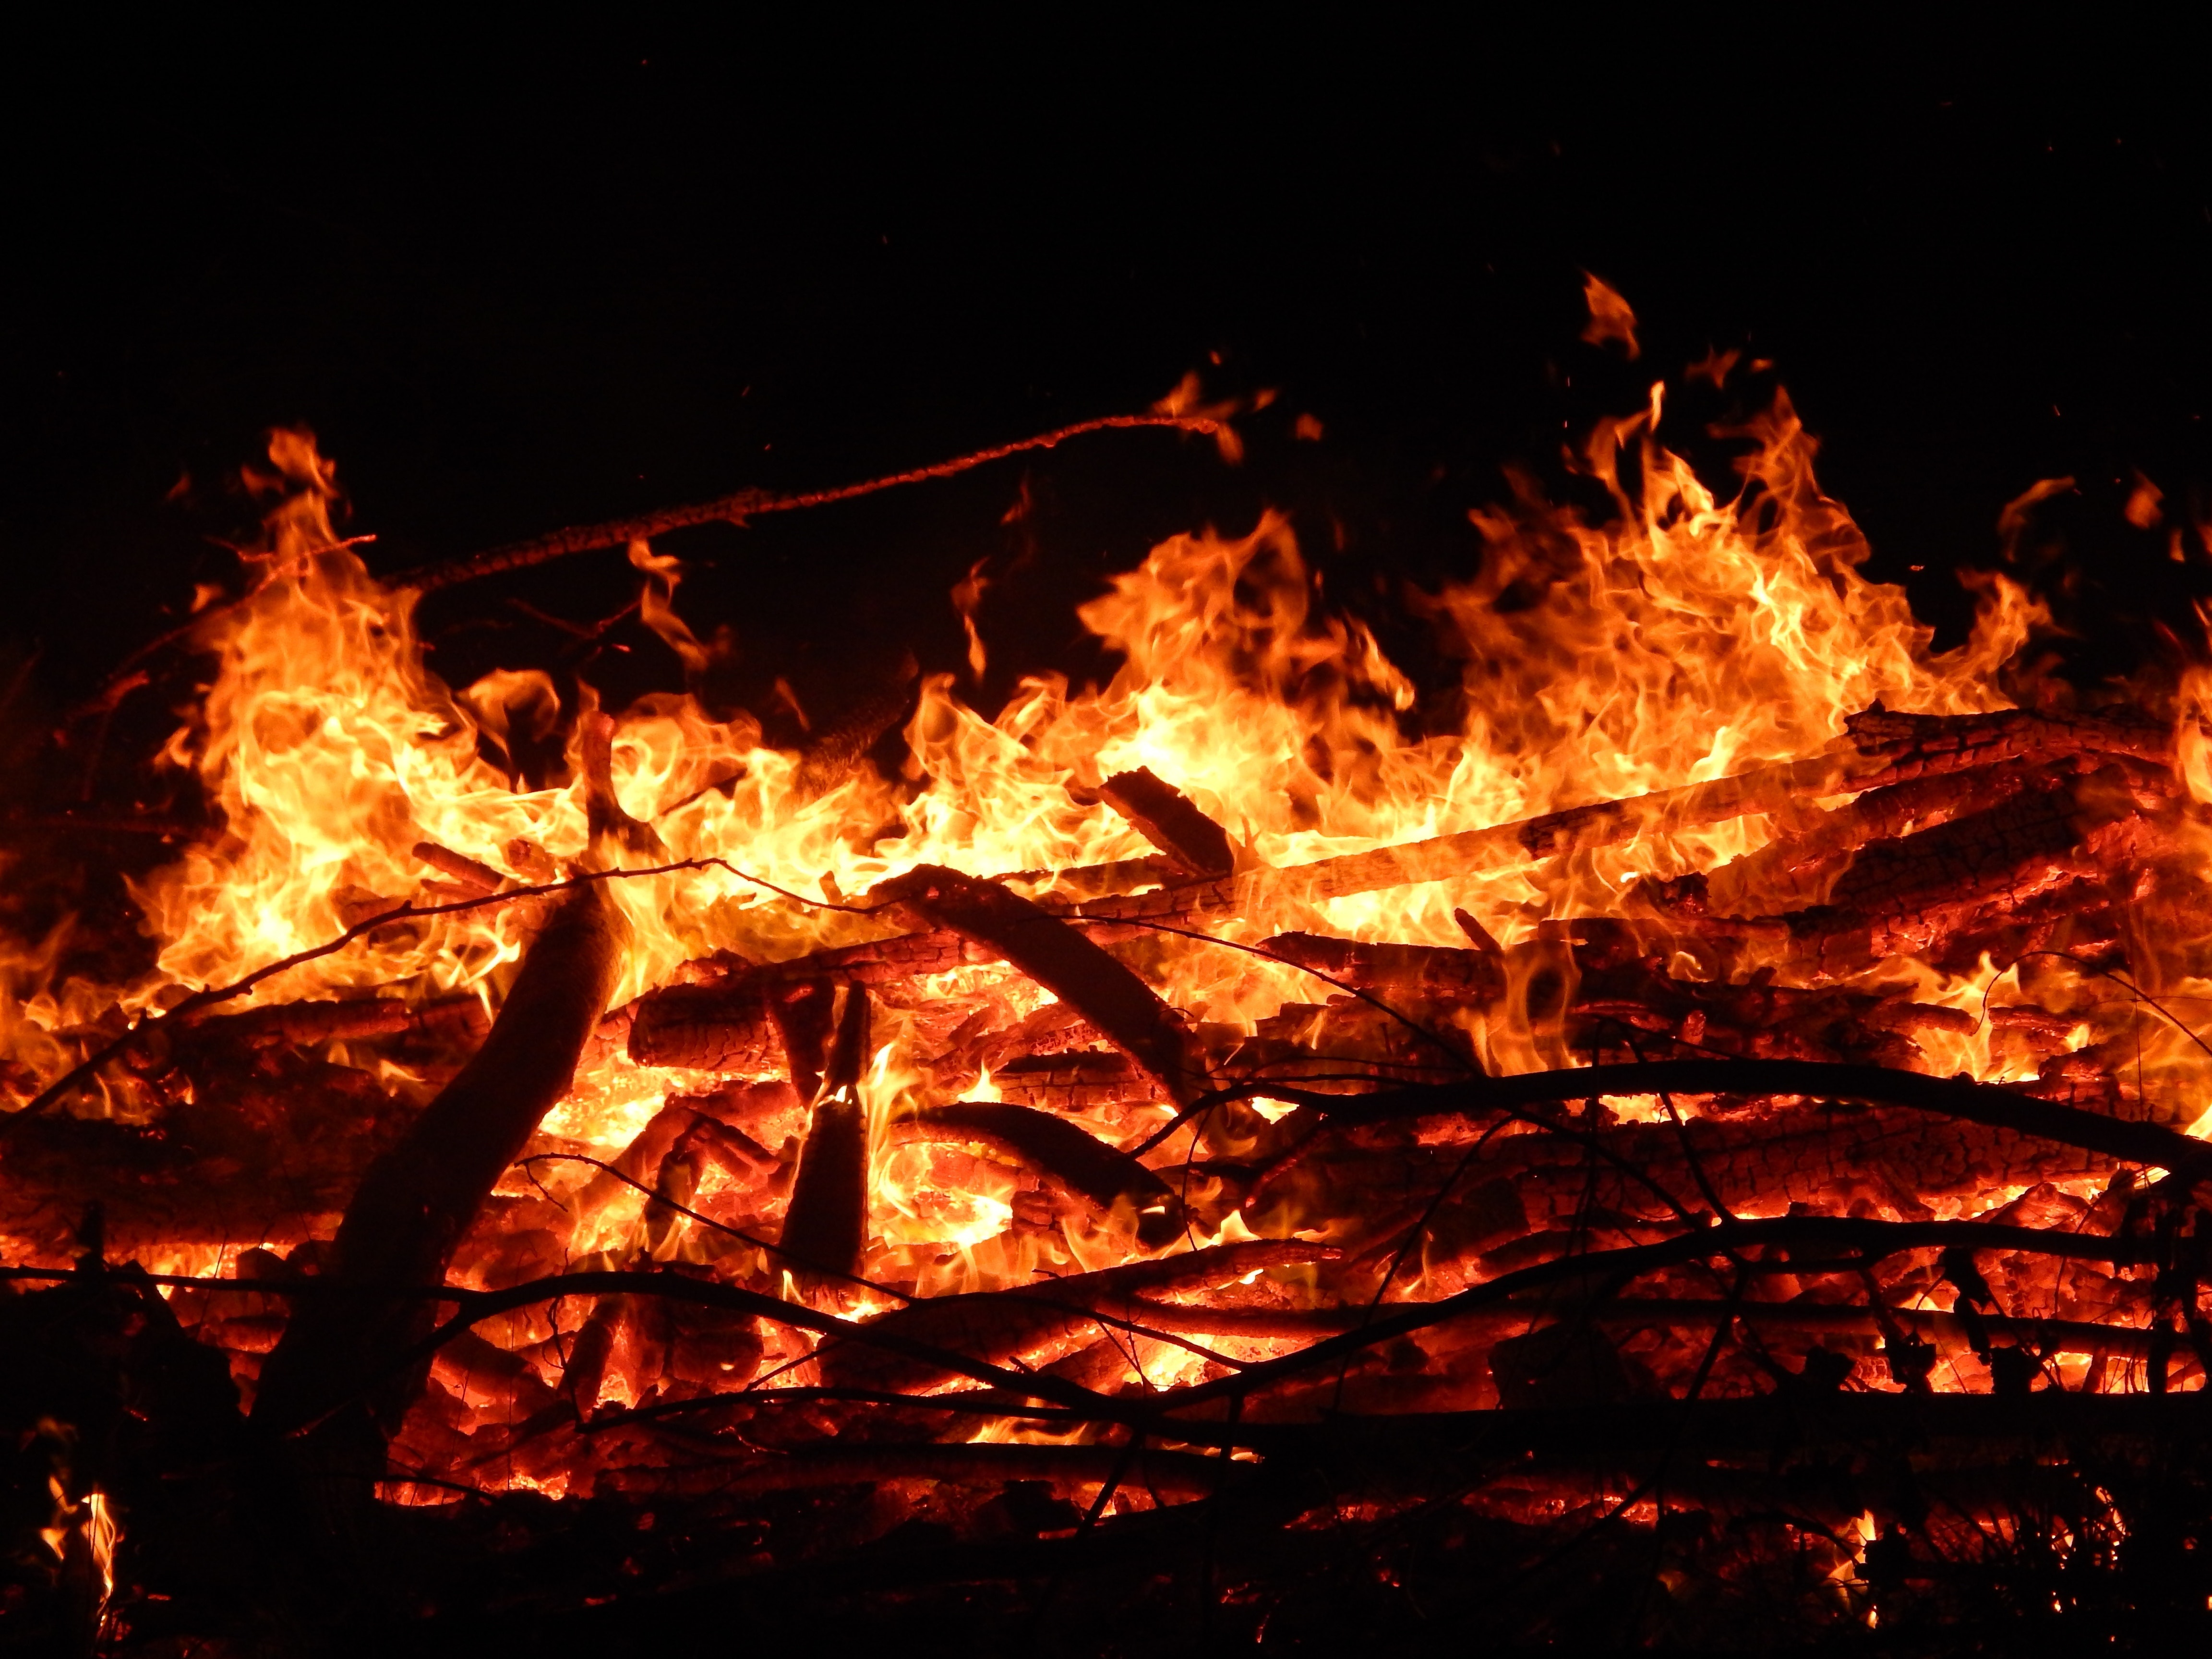fire: (193, 418, 2209, 1567)
